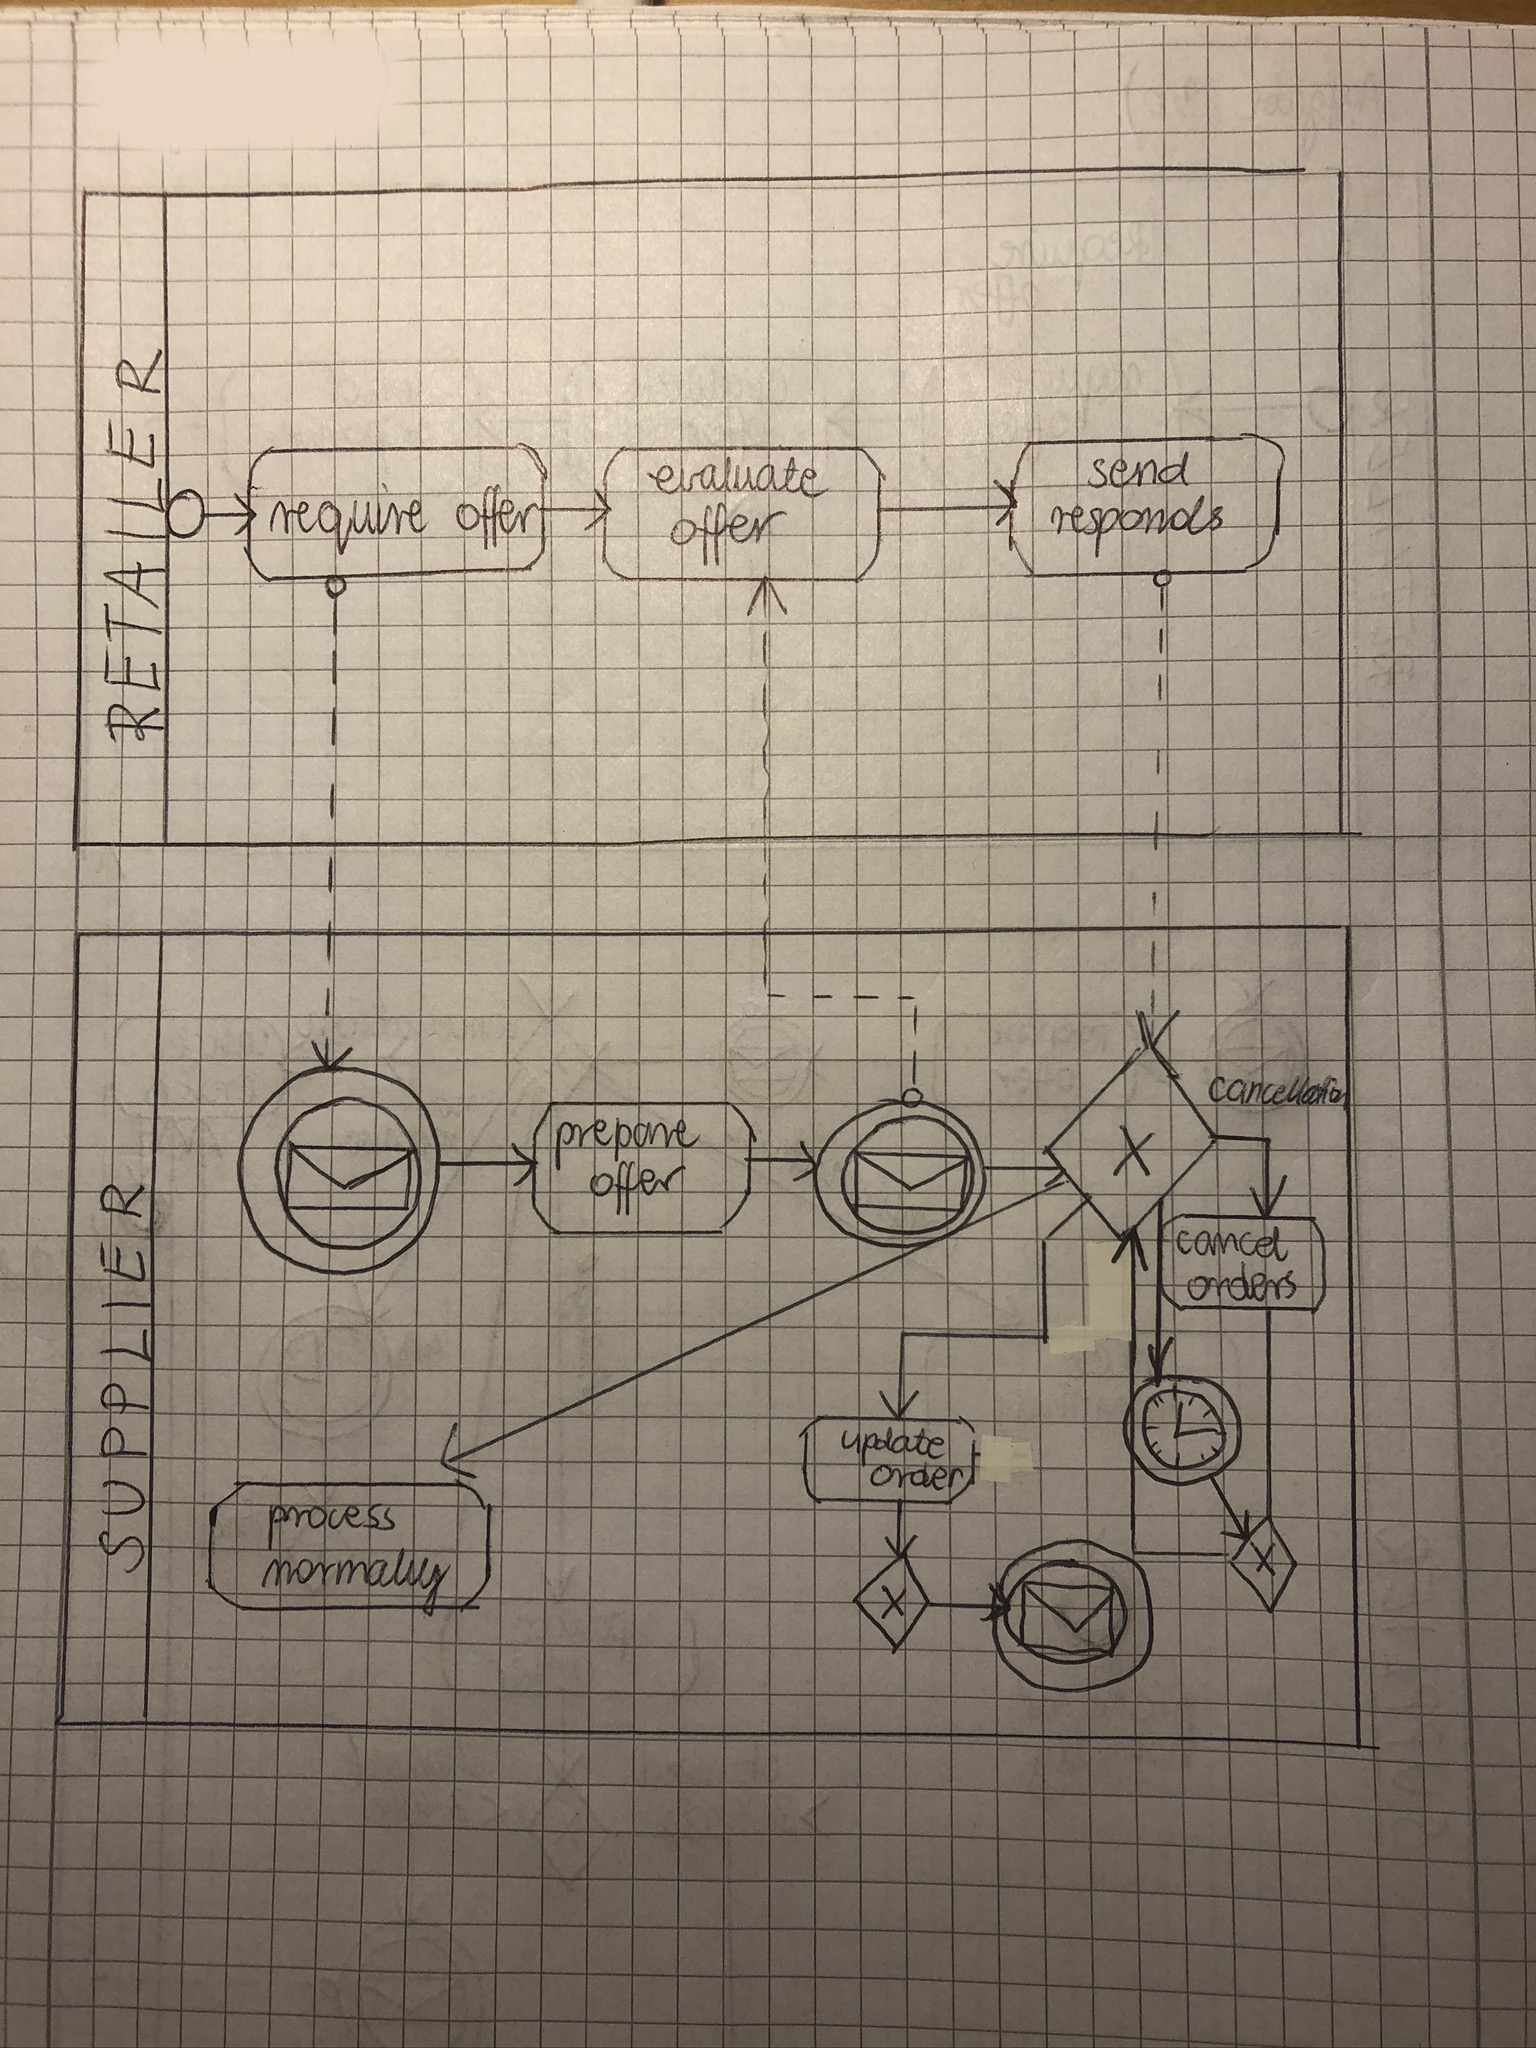RETAILER: (97, 342, 169, 743)
SUPPLIER: (86, 1164, 158, 1580)
cancel: (1173, 1226, 1288, 1263)
cancellation: (1218, 1068, 1338, 1119)
evaluate: (650, 458, 833, 497)
normally: (253, 1543, 455, 1588)
offer: (662, 493, 787, 563), (429, 481, 545, 540), (579, 1153, 691, 1193)
order: (866, 1464, 965, 1490)
orders: (1186, 1269, 1300, 1306)
prepare: (557, 1116, 694, 1158)
process: (265, 1492, 402, 1535)
require: (269, 485, 421, 540)
responds: (1050, 497, 1233, 542)
send: (1081, 447, 1200, 500)
update: (837, 1429, 962, 1463)
